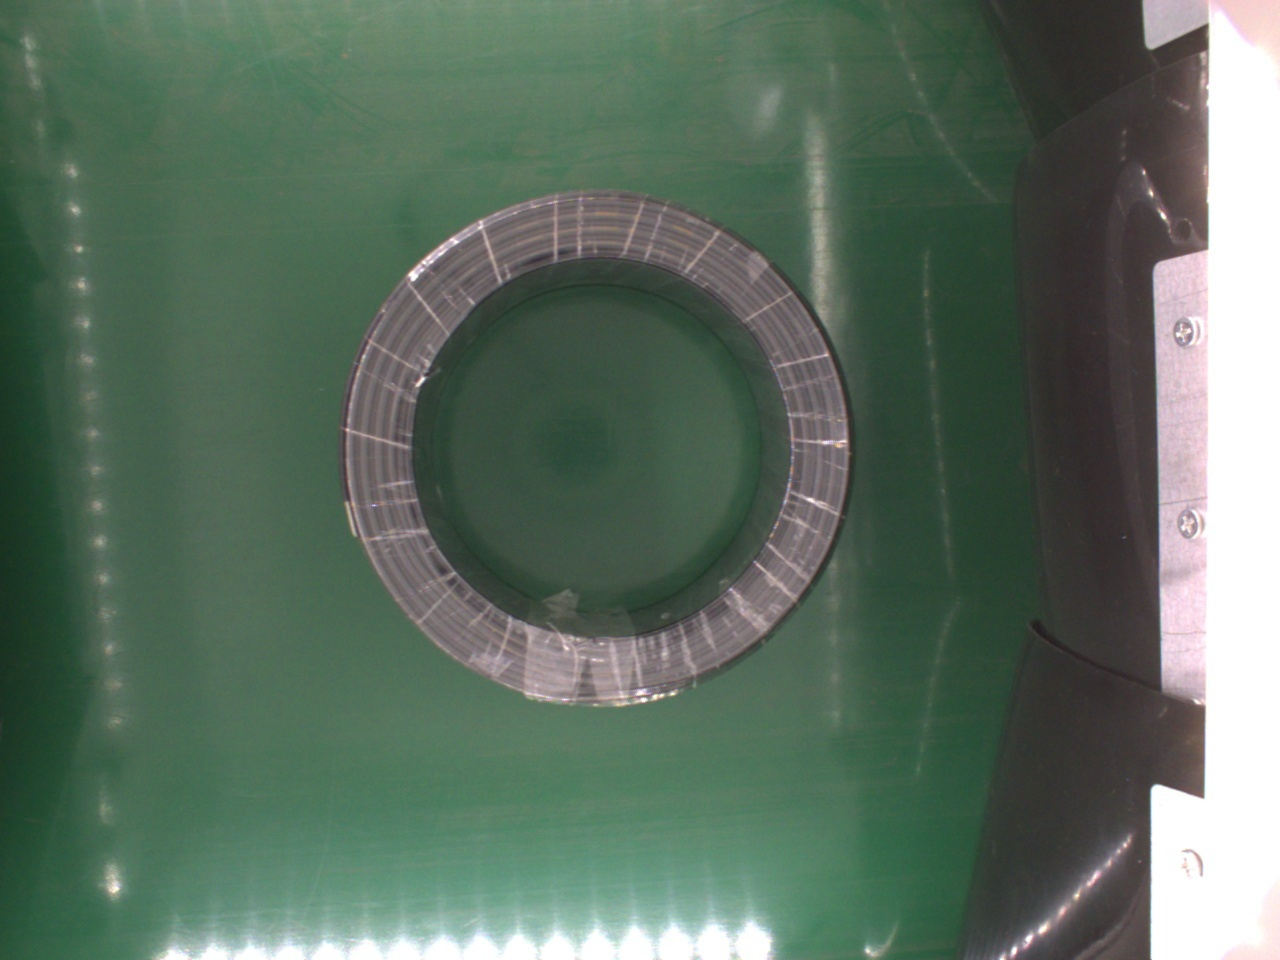black: (341, 190, 852, 711)
